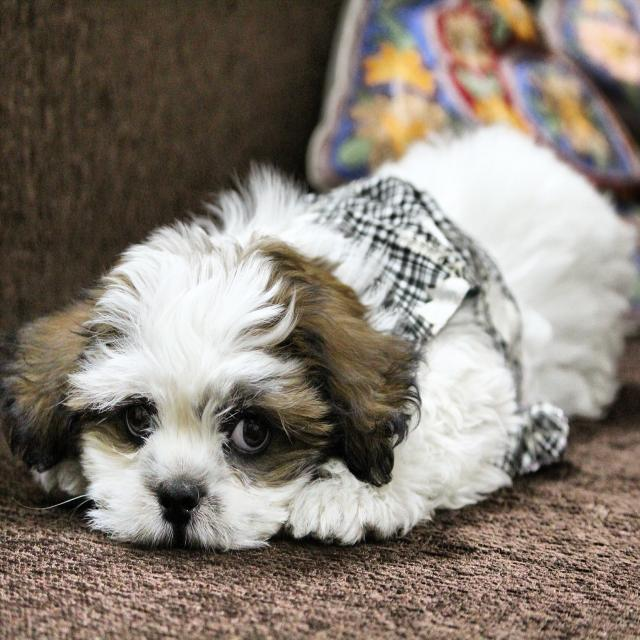dog: (0, 122, 633, 552)
